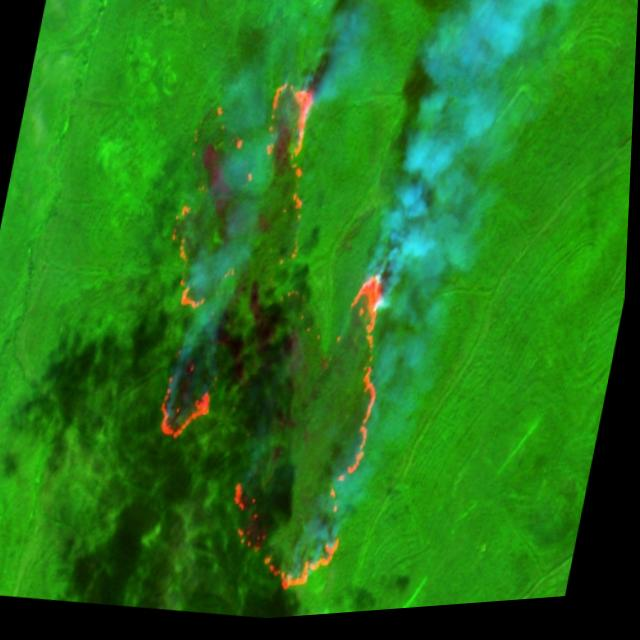fire: (107, 60, 442, 618)
